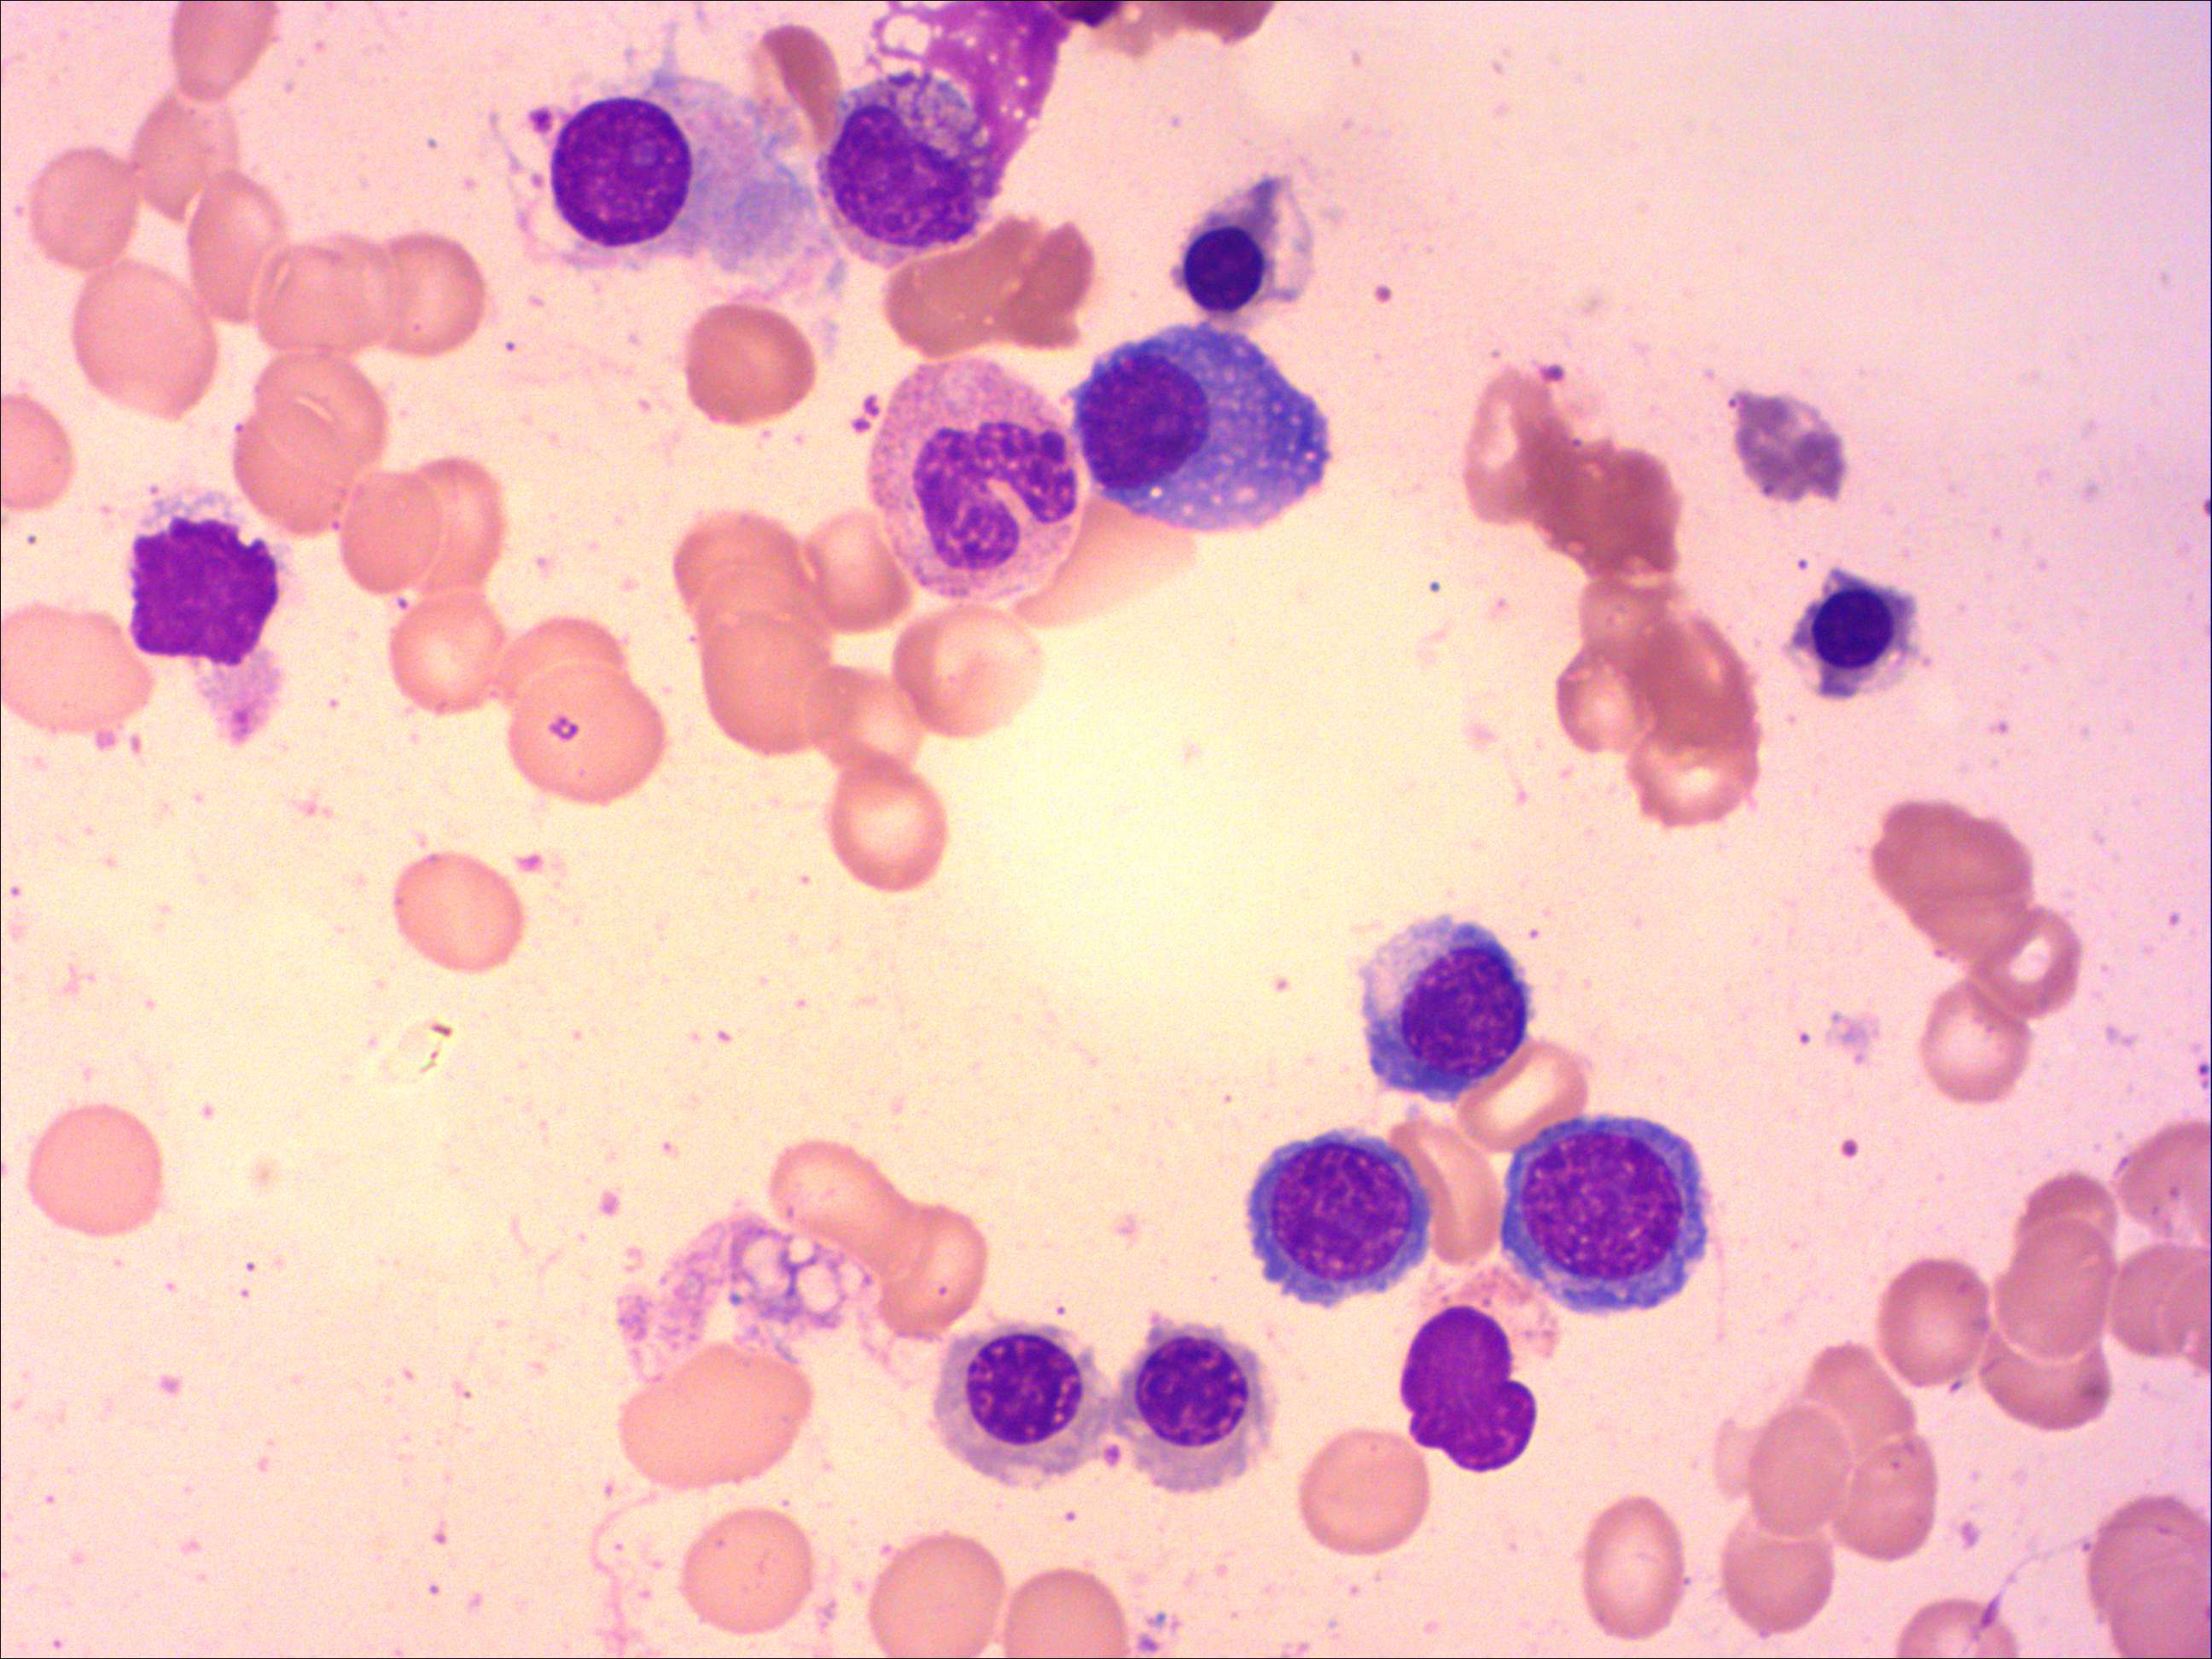23: (1493, 1108, 1710, 1324), (1235, 1124, 1437, 1312), (1352, 910, 1538, 1108)
24: (930, 1317, 1118, 1493), (1122, 1312, 1280, 1504), (1777, 563, 1928, 706), (1167, 216, 1285, 324)
5: (860, 352, 1097, 610)
51: (1062, 319, 1334, 544), (531, 84, 719, 265)
x: (810, 70, 998, 272), (118, 490, 298, 678), (1393, 1302, 1543, 1481)
